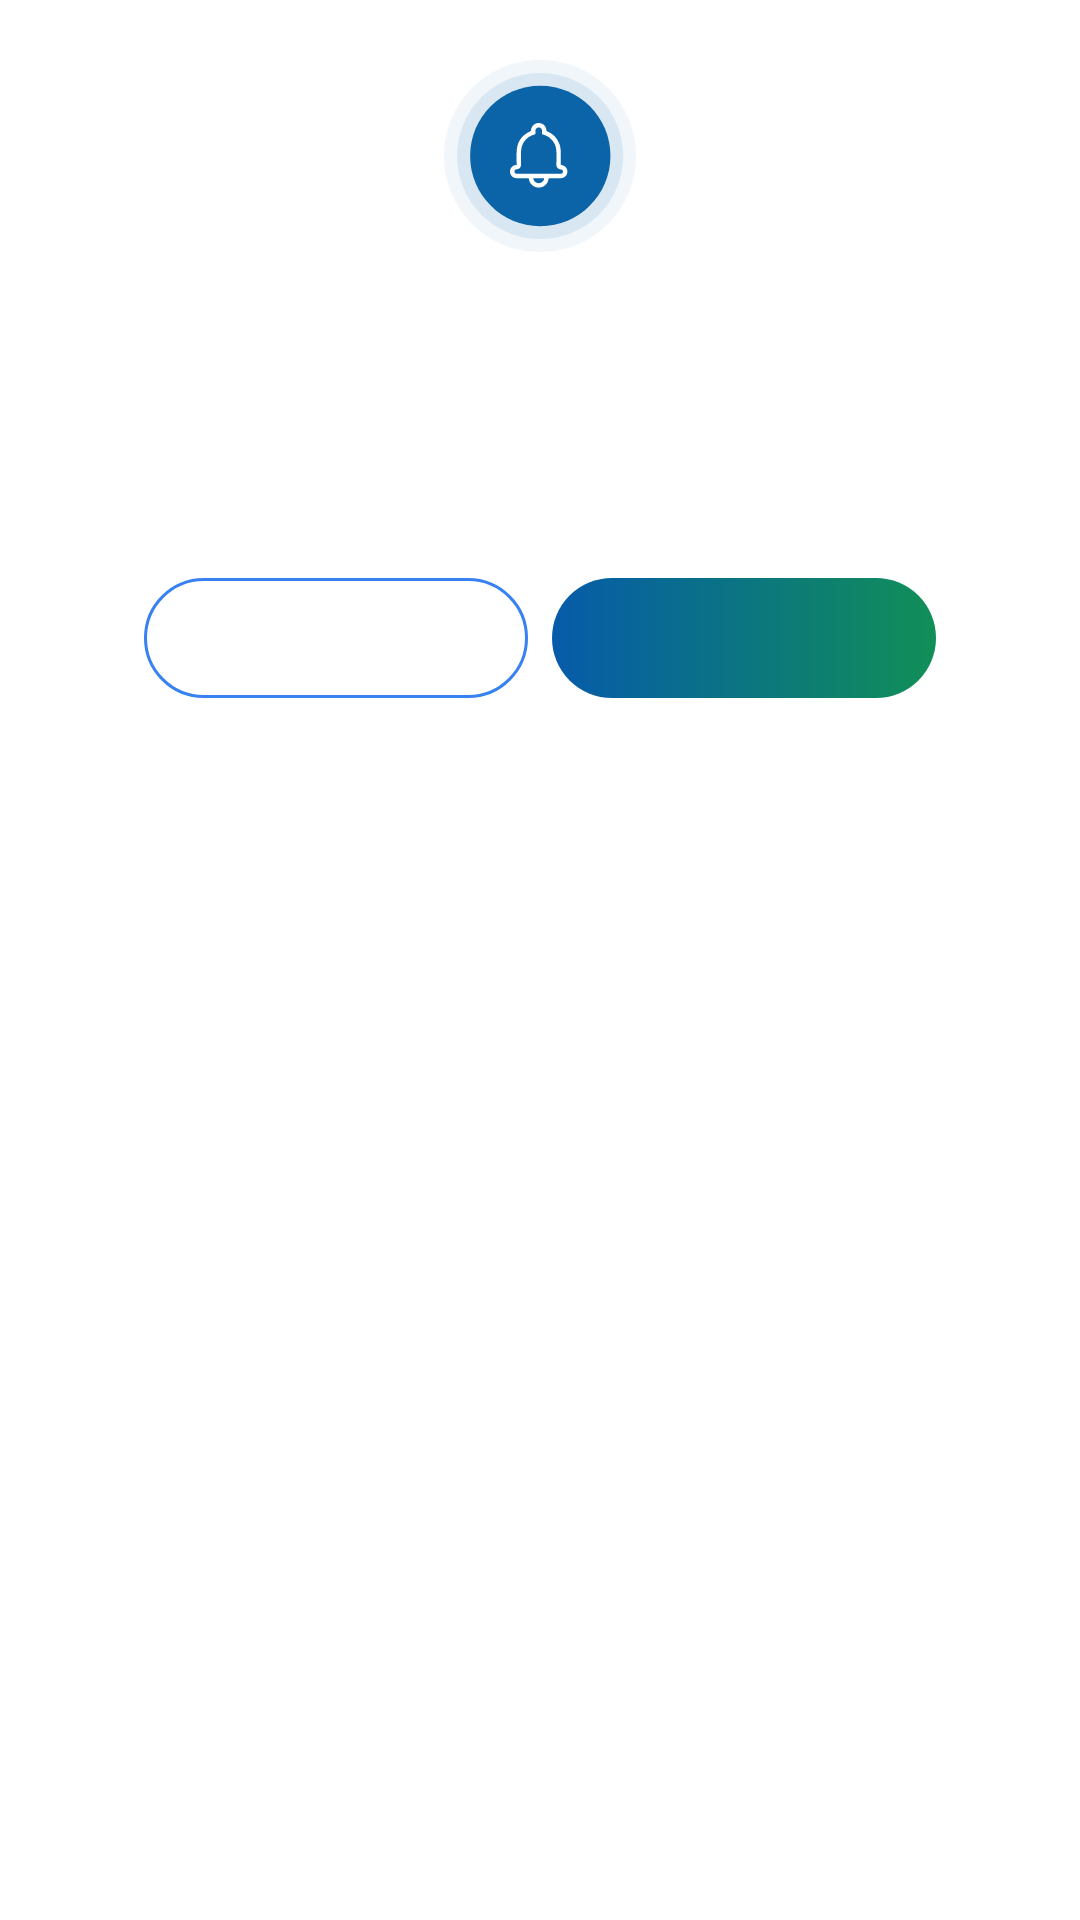

Screen size 1080 x 1920. Icon name, then its box in pixels as (x1, y1, x2, y2):
notification: (457, 73, 623, 239)
